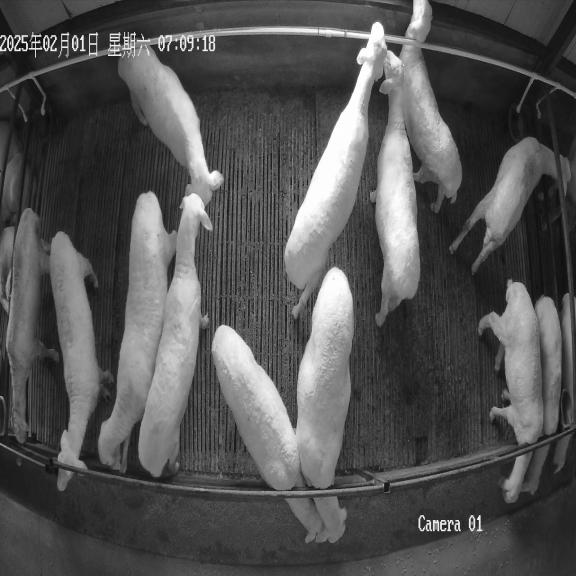eating: (212, 325, 324, 543), (296, 267, 353, 543), (478, 280, 543, 503), (522, 296, 562, 495)
stand: (285, 22, 387, 318), (98, 191, 177, 472), (138, 193, 212, 477), (449, 137, 571, 274), (118, 45, 223, 202), (50, 232, 112, 491), (370, 51, 420, 326), (399, 0, 462, 213), (6, 208, 60, 443)
